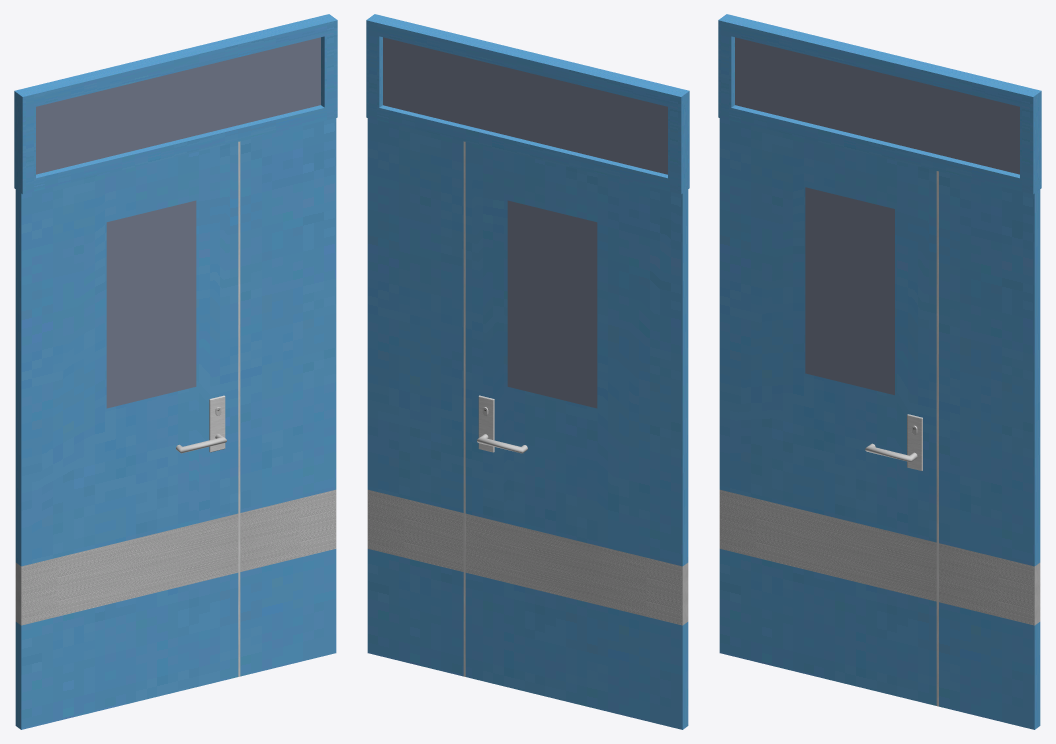
File: Body.fbx
3 views of the same model, side by side, from view 1: azimuth 30°, elevation 25°; view 2: azimuth 150°, elevation 25°; view 3: azimuth 330°, elevation 25° (orthographic).
Parts seen in each view (by area): view 1: LeftPiovt, MENKUANG; view 2: LeftPiovt, MENKUANG; view 3: LeftPiovt, MENKUANG.
Part boxes in pixels (box(x1,y1,x2,y2)): LeftPiovt: box(15, 141, 239, 729); MENKUANG: box(14, 14, 337, 676); LeftPiovt: box(464, 141, 688, 729); MENKUANG: box(366, 14, 689, 676); LeftPiovt: box(719, 118, 937, 706); MENKUANG: box(718, 14, 1041, 729).
Size of the model in its own units: 1.3 by 2.5 by 0.1418.
9 materials, 7 textured.
